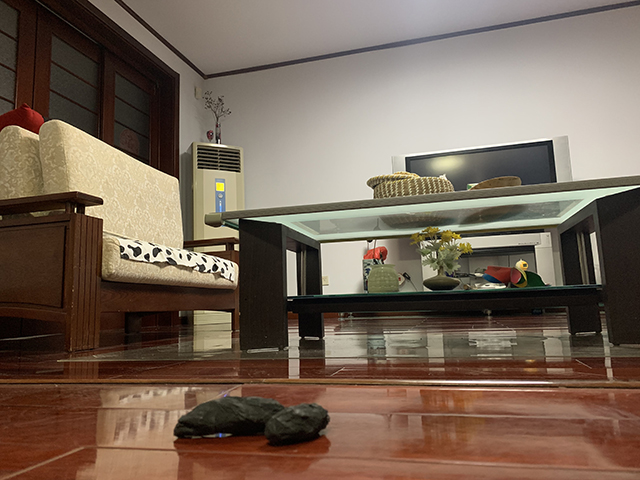feces: (172, 395, 330, 446)
sofa: (1, 101, 240, 353)
table: (204, 175, 640, 357)
